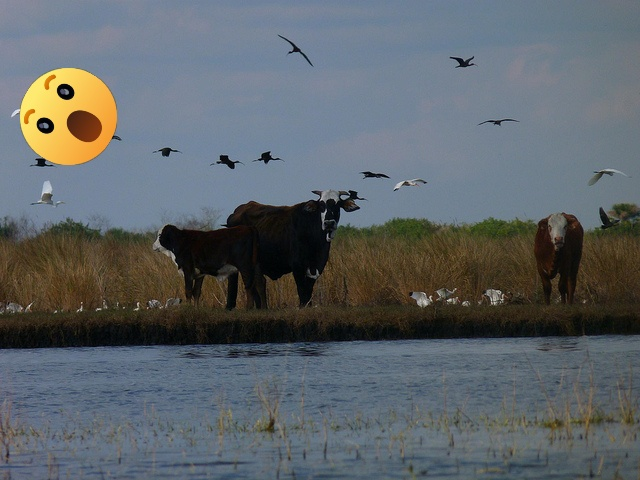wow: (20, 68, 117, 165)
